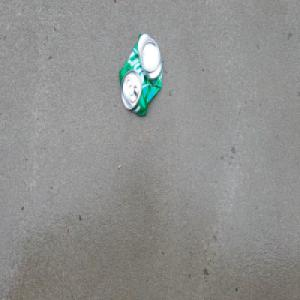SodaCan: (117, 31, 164, 119)
